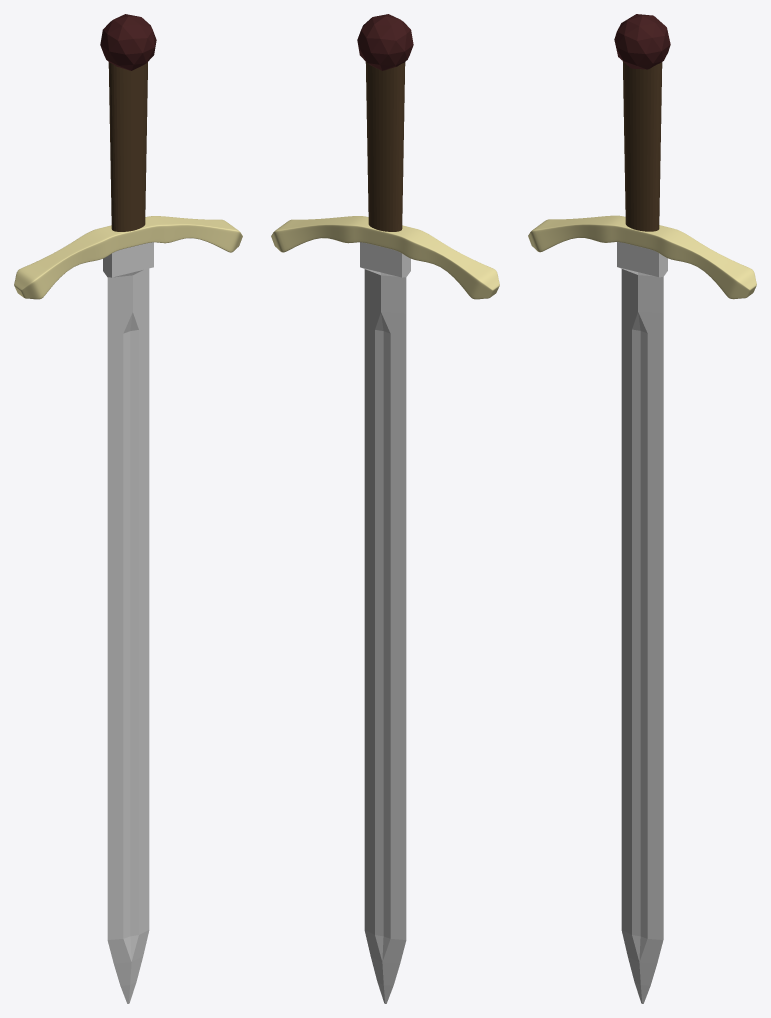
The model's file is Sword.fbx.
3 renders of one model, left to right at view 1: azimuth 30°, elevation 25°; view 2: azimuth 150°, elevation 25°; view 3: azimuth 330°, elevation 25°, orthographic.
Visible parts, largest first — view 1: Bkade, Handle, Guard, Pommell; view 2: Bkade, Handle, Guard, Pommell; view 3: Bkade, Handle, Guard, Pommell.
Boxes of the visible parts, box(x1,y1,x2,y2) form: Bkade: box(103, 242, 153, 1003); Handle: box(108, 62, 147, 231); Guard: box(14, 216, 242, 299); Pommell: box(100, 14, 156, 70); Bkade: box(360, 242, 410, 1003); Handle: box(365, 62, 405, 231); Guard: box(271, 216, 499, 299); Pommell: box(357, 14, 413, 70); Bkade: box(617, 242, 667, 1003); Handle: box(622, 61, 662, 231); Guard: box(528, 215, 756, 299); Pommell: box(614, 14, 670, 69).
Bounding box in the file's own units: 35.11 × 149 × 7.89.
